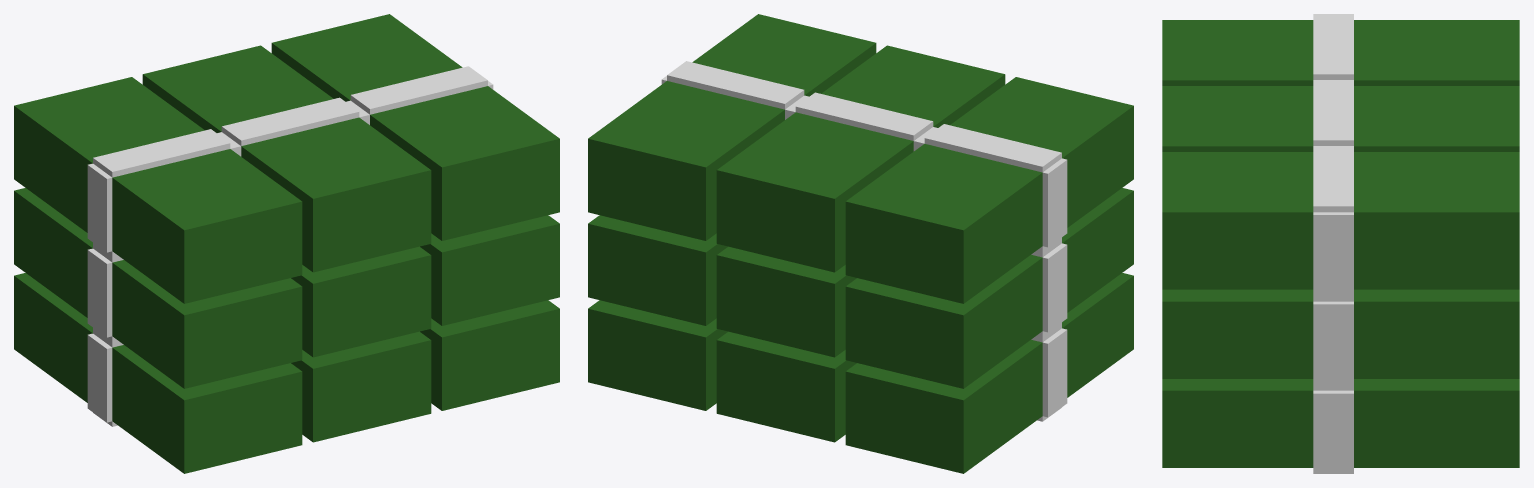
File: moneystack.fbx
3 views of the same model, side by side, from view 1: azimuth 30°, elevation 25°; view 2: azimuth 150°, elevation 25°; view 3: azimuth 270°, elevation 25° (orthographic). The views are drawn at different scales.
Parts seen in each view (by area): view 1: Cash 3, Cash 2, Cash 1, Cash 6, Cash 9, Cash 5, Cash 8, Cash 4, Cash 7; view 2: Cash 3, Cash 2, Cash 1, Cash 9, Cash 6, Cash 5, Cash 8, Cash 4, Cash 7; view 3: Cash 1, Cash 4, Cash 7, Cash 2, Cash 3.
Part boxes in pixels (box(x1,y1,x2,y2)): Cash 3: box(14, 77, 302, 303); Cash 2: box(142, 45, 431, 272); Cash 1: box(271, 14, 559, 240); Cash 6: box(14, 188, 302, 388); Cash 9: box(14, 273, 302, 473); Cash 5: box(291, 246, 431, 357); Cash 8: box(291, 331, 431, 442); Cash 4: box(420, 215, 559, 325); Cash 7: box(420, 300, 559, 410); Cash 3: box(845, 77, 1133, 303); Cash 2: box(716, 45, 1005, 272); Cash 1: box(588, 14, 876, 240); Cash 9: box(845, 273, 1133, 473); Cash 6: box(845, 188, 1133, 388); Cash 5: box(716, 246, 856, 357); Cash 8: box(716, 331, 856, 442); Cash 4: box(588, 215, 727, 325); Cash 7: box(588, 300, 727, 410); Cash 1: box(1162, 146, 1519, 295); Cash 4: box(1162, 289, 1519, 384); Cash 7: box(1162, 379, 1519, 473); Cash 2: box(1162, 80, 1519, 151); Cash 3: box(1162, 14, 1519, 85).
Bounding box in the file's own units: 78.6 × 49.55 × 60.
